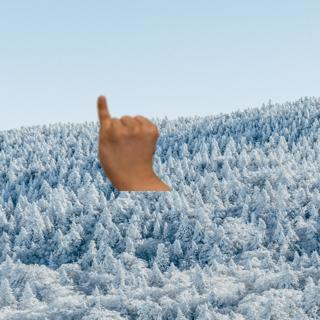FINE: (91, 92, 162, 185)
